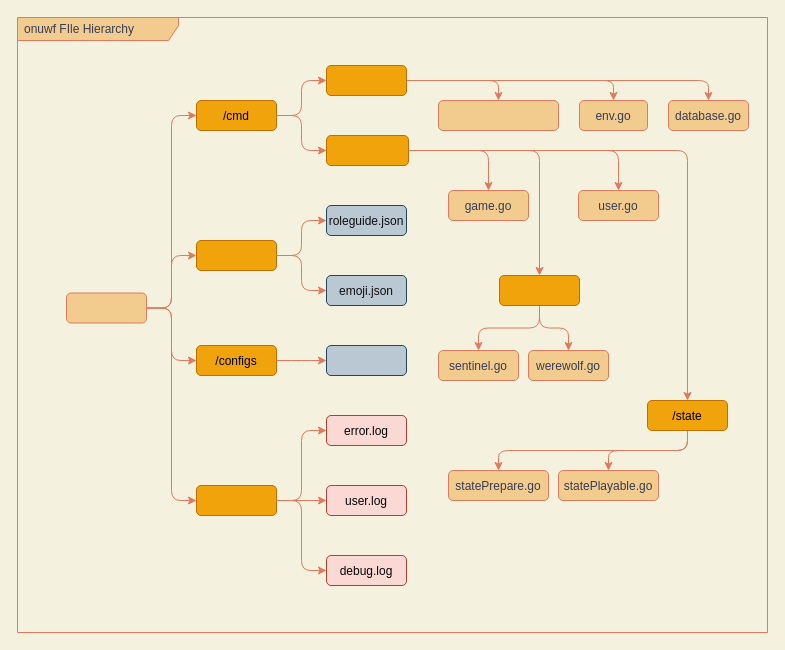
The diagram is 785 pixels wide and 650 high, and some of its shapes have lost their labels. Here are the shapes that lost their labels. From the top down, the centre of each, then its label:
(366,80): /pkg
(498,115): GameHandler.go
(367,150): /internal
(236,255): /asset
(106,307): /onuwf
(539,290): /role
(366,360): env.json
(236,500): /log
